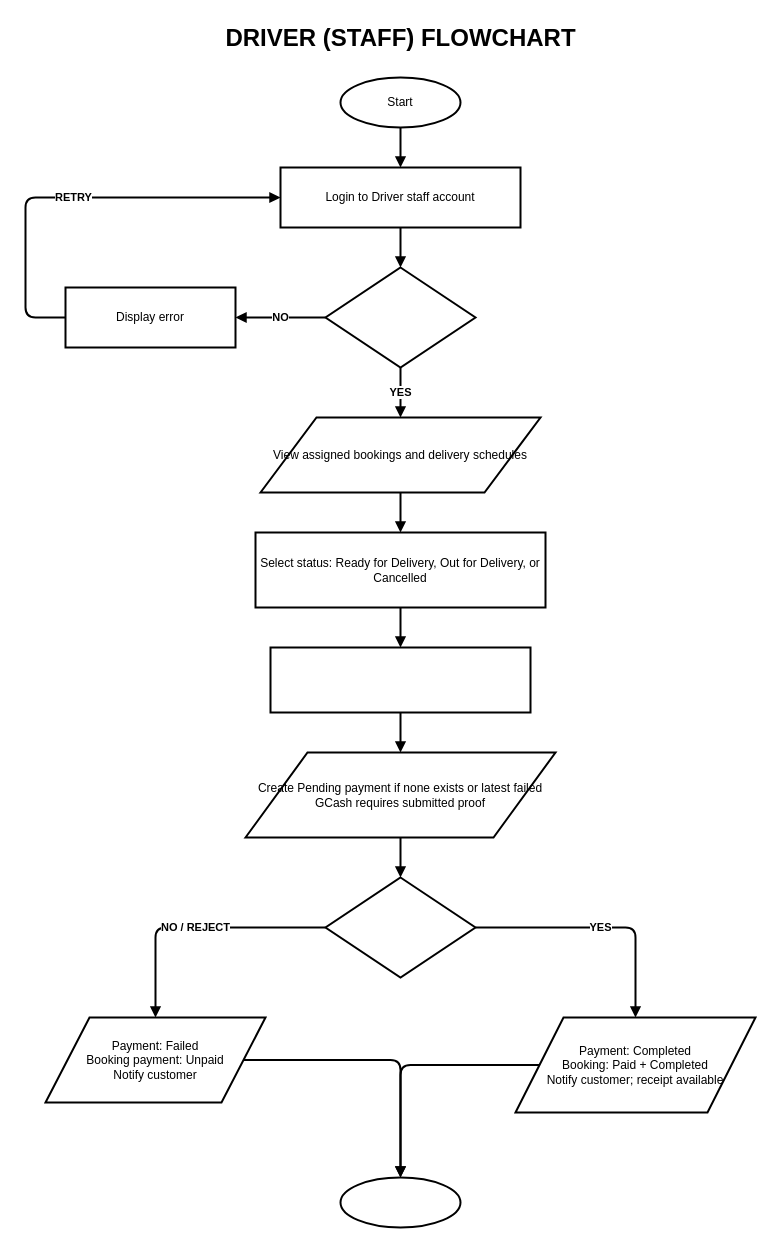
Some shapes in this 773 by 1245 pixel diagram are drawn without their labels. The shapes that lost their labels are listed below. From the top down, each one's box as (x1, y1, x2, y2) in pixels, then its label:
(324, 266, 476, 368): Valid active account?
(269, 646, 531, 713): Open receipt / payment confirmation
(324, 876, 476, 978): Confirm payment?
(339, 1176, 461, 1228): End / Logout
